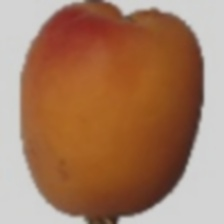apricot: (62, 35, 199, 223)
